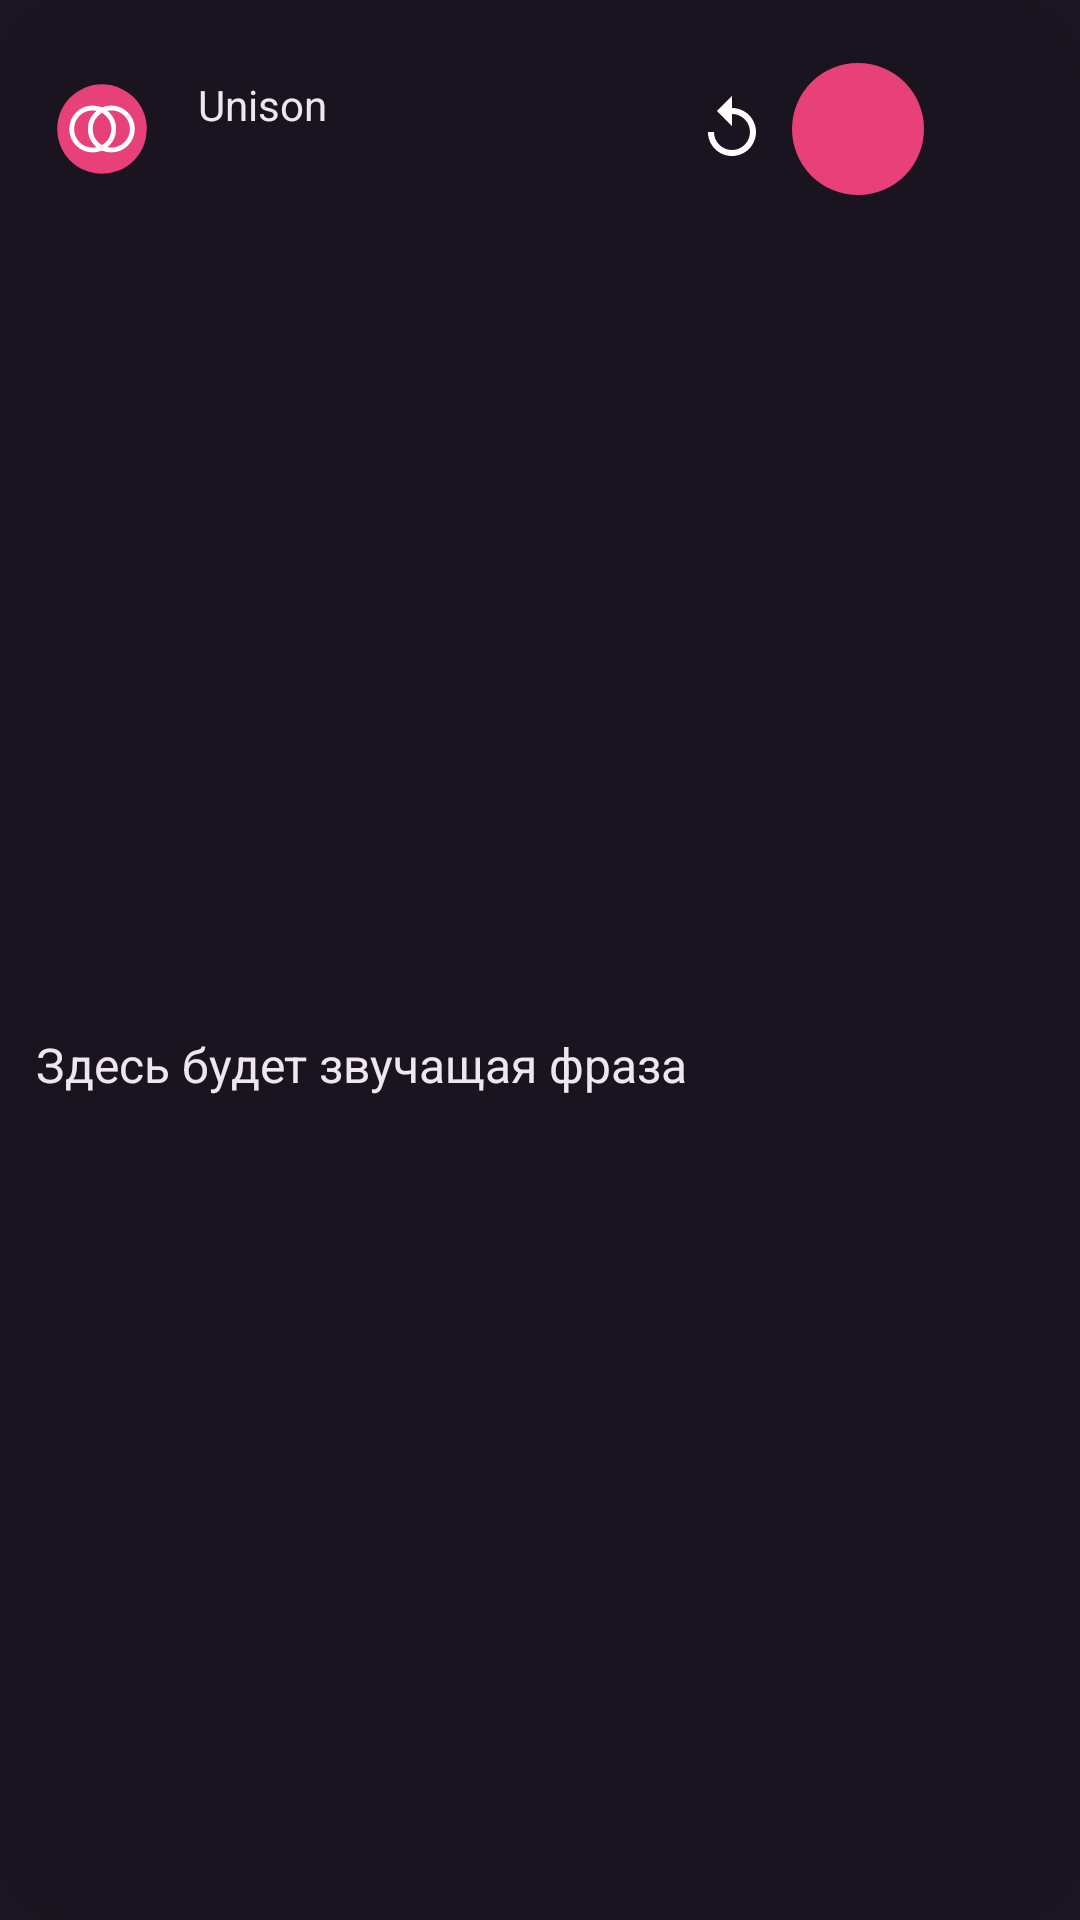

Icon bounding boxes for this 1080px x 1920px phone screenshot, format region(x1, y1, x2, y2):
Назад: region(708, 96, 756, 156)
